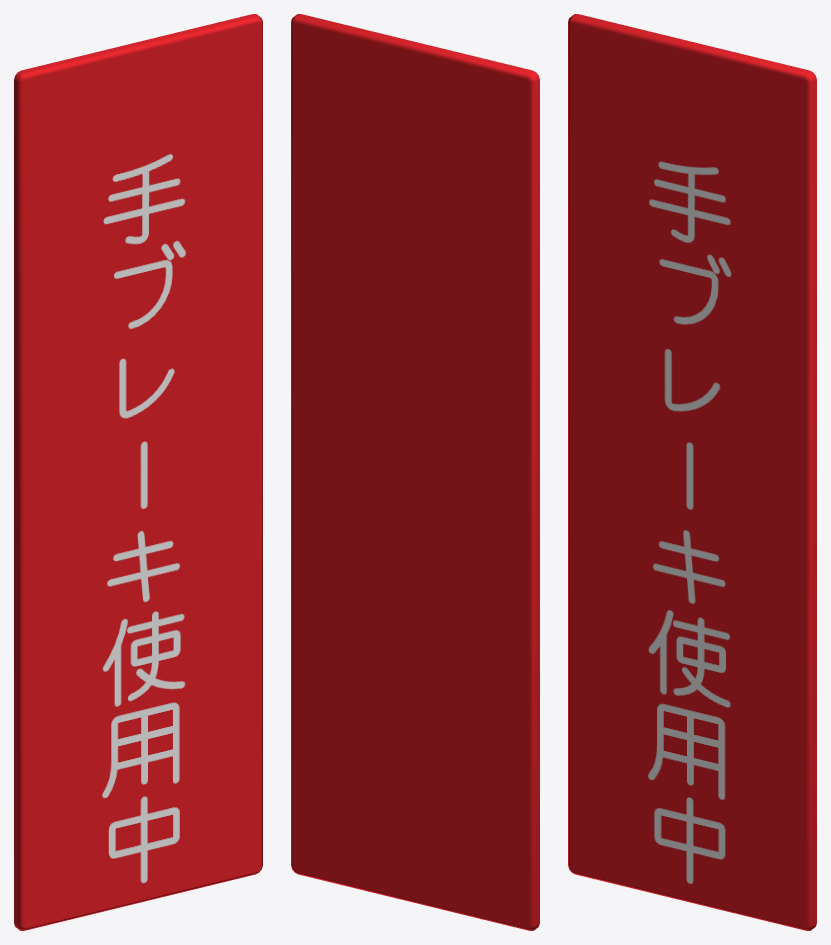
Rendered from brakeWarningPlate.fbx.
3 renders of one model, left to right at view 1: azimuth 30°, elevation 25°; view 2: azimuth 150°, elevation 25°; view 3: azimuth 330°, elevation 25°, orthographic.
Visible parts, largest first — view 1: ReturnPlate; view 2: ReturnPlate; view 3: ReturnPlate.
Part boxes in pixels (x1,y1,x2,y2): ReturnPlate: (14,14,262,930); ReturnPlate: (291,14,539,930); ReturnPlate: (568,14,816,930).
Size of the model in its own units: 0.051 by 0.003 by 0.17.
Materials: 1 (1 with a texture image).
